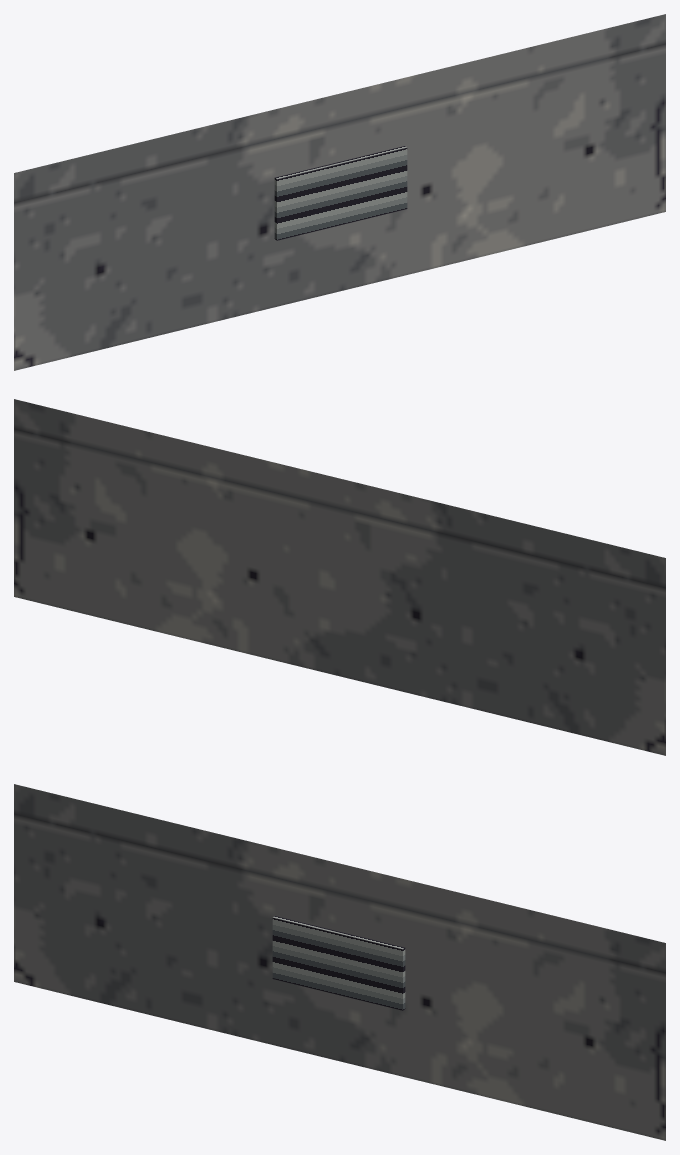
Rendered from RES_Ext_Foundation_2m.obj.
The picture shows the model from 3 angles, top to bottom: view 1: azimuth 30°, elevation 25°; view 2: azimuth 150°, elevation 25°; view 3: azimuth 330°, elevation 25°; orthographic projection.
Parts seen in each view (by area): view 1: RES_Ext_Foundation_2m_Mesh_M_Arch_ConcreteFoundation, RES_Ext_Foundation_2m_Mesh_M_Town_VentGrille; view 2: RES_Ext_Foundation_2m_Mesh_M_Arch_ConcreteFoundation; view 3: RES_Ext_Foundation_2m_Mesh_M_Arch_ConcreteFoundation, RES_Ext_Foundation_2m_Mesh_M_Town_VentGrille.
Part boxes in pixels (x1,y1,x2,y2): RES_Ext_Foundation_2m_Mesh_M_Arch_ConcreteFoundation: [14, 14, 665, 370]; RES_Ext_Foundation_2m_Mesh_M_Town_VentGrille: [274, 146, 407, 240]; RES_Ext_Foundation_2m_Mesh_M_Arch_ConcreteFoundation: [14, 399, 665, 755]; RES_Ext_Foundation_2m_Mesh_M_Arch_ConcreteFoundation: [14, 784, 665, 1140]; RES_Ext_Foundation_2m_Mesh_M_Town_VentGrille: [272, 916, 405, 1010].
Bounding box in the file's own units: 2 × 0.58 × 0.012.
Materials: 2 (2 with a texture image).
